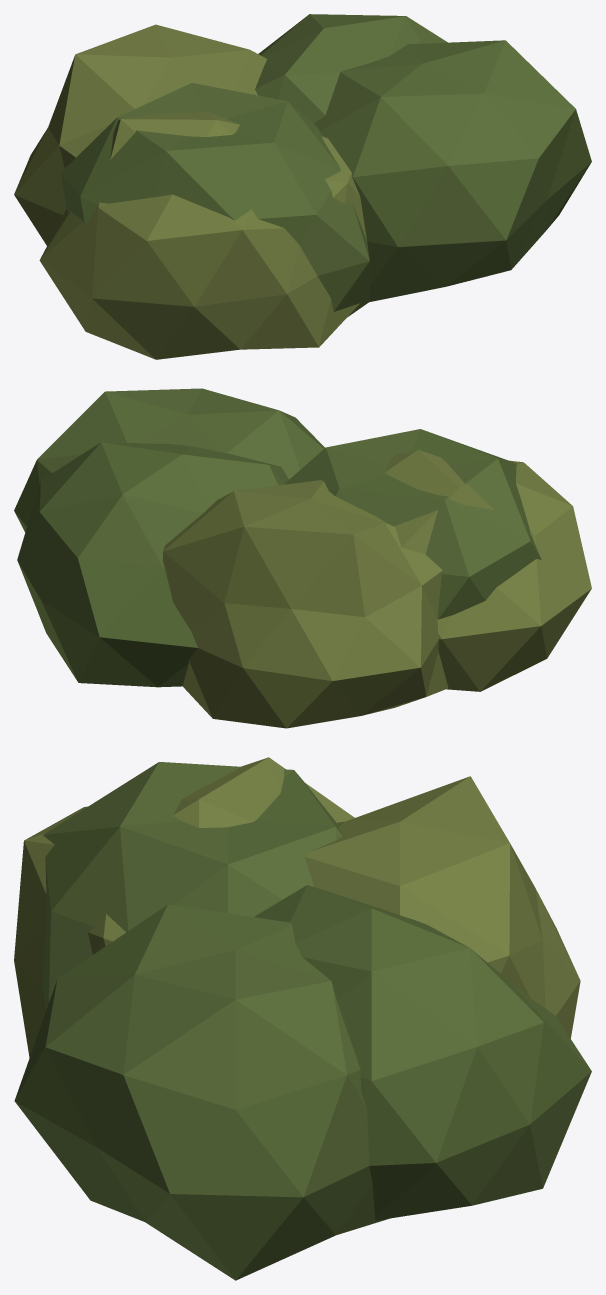
File: bush.glb
3 renders of one model, top to bottom at view 1: azimuth 30°, elevation 25°; view 2: azimuth 150°, elevation 25°; view 3: azimuth 270°, elevation 25°, orthographic. The views are drawn at different scales.
Parts seen in each view (by area): view 1: Foliage middle, Foliage sun; view 2: Foliage sun, Foliage middle; view 3: Foliage middle, Foliage sun.
Boxes of the visible parts, x1,y1,x2,y2 form: Foliage middle: (60,14,591,317); Foliage sun: (14,24,366,359); Foliage sun: (162,450,591,728); Foliage middle: (14,388,541,687); Foliage middle: (14,762,591,1280); Foliage sun: (14,757,580,1057).
Bounding box in the file's own units: 2.15 × 0.7632 × 1.57.
